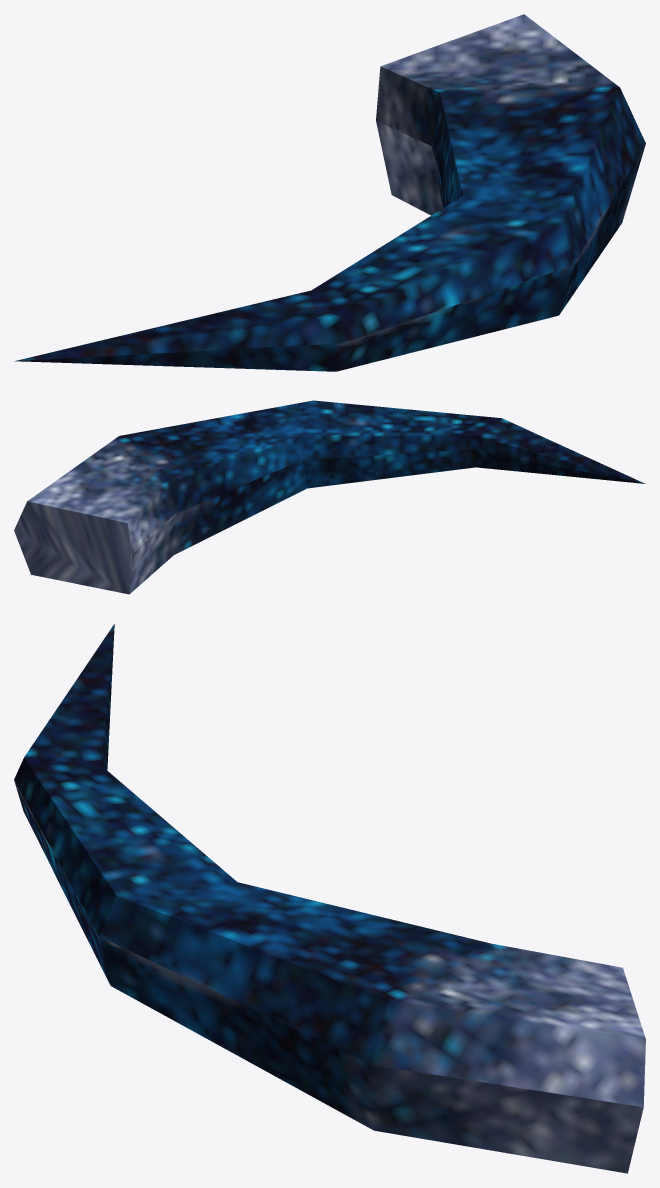
Rendered from serpixmandible.obj.
3 views of the same model, one above another, from view 1: azimuth 30°, elevation 25°; view 2: azimuth 150°, elevation 25°; view 3: azimuth 270°, elevation 25° (orthographic). The views are drawn at different scales.
Visible parts, largest first — view 1: base; view 2: base; view 3: base.
Part boxes in pixels (x1=…): base: x1=14, y1=14, x2=645, y2=371; base: x1=14, y1=400, x2=645, y2=594; base: x1=14, y1=624, x2=645, y2=1173.
Bounding box in the file's own units: 0.9508 × 0.1916 × 0.6367.
